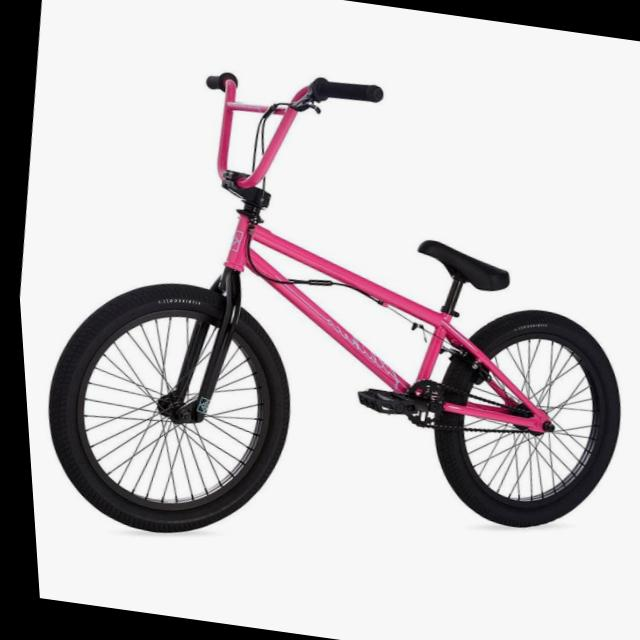bmx-bike: (4, 42, 640, 598)
